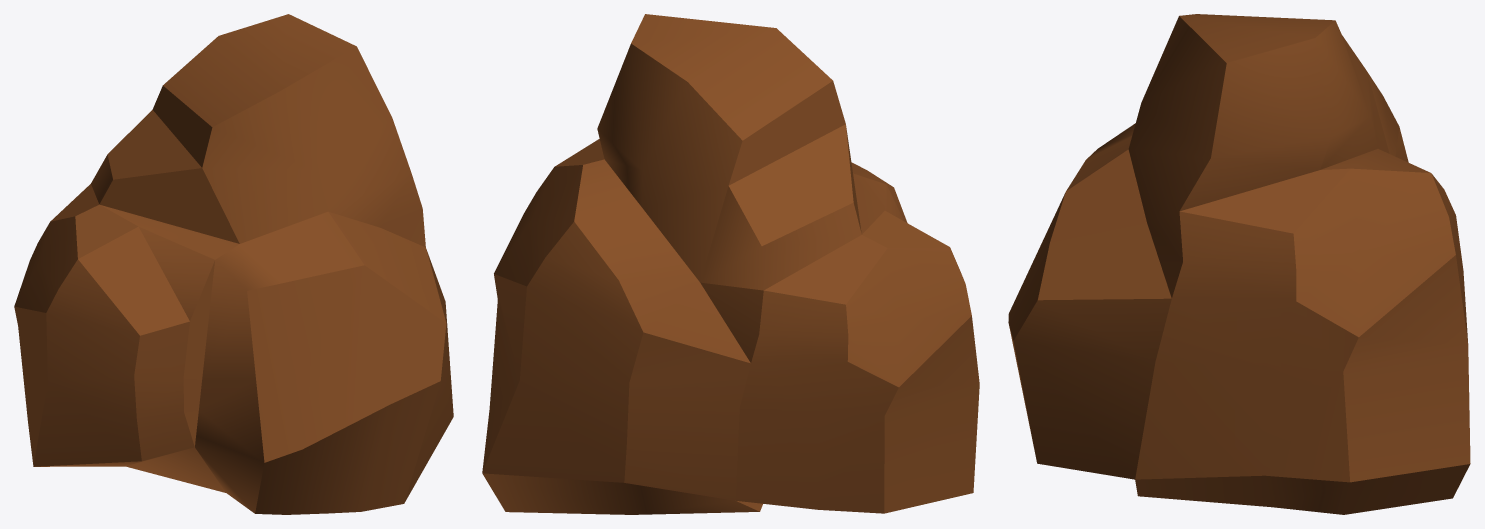
File: rock2-transformed.glb
The picture shows the model from 3 angles, left to right: view 1: azimuth 30°, elevation 25°; view 2: azimuth 150°, elevation 25°; view 3: azimuth 270°, elevation 25°; orthographic projection. The views are drawn at different scales.
Visible parts, largest first — view 1: Rock_2; view 2: Rock_2; view 3: Rock_2.
Boxes of the visible parts, <box> form: Rock_2: <box>14,14,453,514</box>; Rock_2: <box>482,14,979,514</box>; Rock_2: <box>1008,14,1470,514</box>.
Bounding box in the file's own units: 2.74 × 2.71 × 2.52.
1 material, 1 textured.
